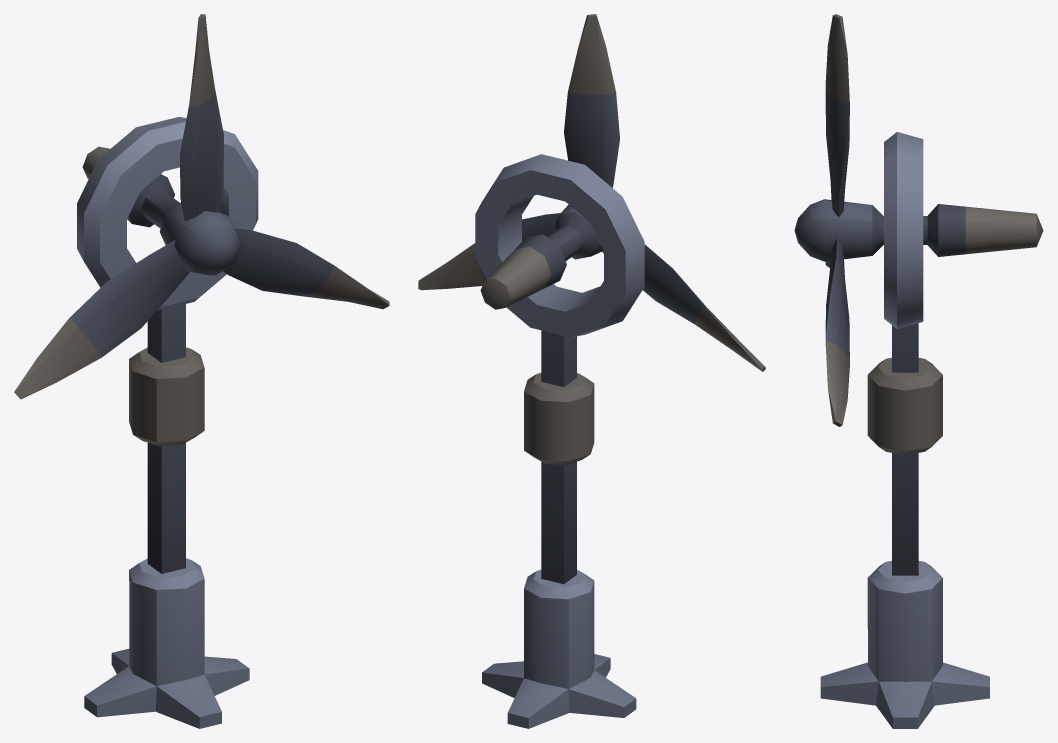
Rendered from windturbine_tall.glb.
3 renders of one model, left to right at view 1: azimuth 30°, elevation 25°; view 2: azimuth 150°, elevation 25°; view 3: azimuth 270°, elevation 25°, orthographic. The views are drawn at different scales.
Visible parts, largest first — view 1: windturbine_tall_fan, windturbine_tall; view 2: windturbine_tall_fan, windturbine_tall; view 3: windturbine_tall, windturbine_tall_fan.
Boxes of the visible parts, x1=… form: windturbine_tall_fan: x1=14, y1=14, x2=389, y2=399; windturbine_tall: x1=84, y1=303, x2=249, y2=728; windturbine_tall_fan: x1=418, y1=14, x2=765, y2=371; windturbine_tall: x1=482, y1=330, x2=636, y2=728; windturbine_tall: x1=820, y1=323, x2=989, y2=728; windturbine_tall_fan: x1=794, y1=14, x2=1043, y2=426.
Bounding box in the file's own units: 1.67 × 3 × 0.9998.
Materials: 1 (1 with a texture image).
